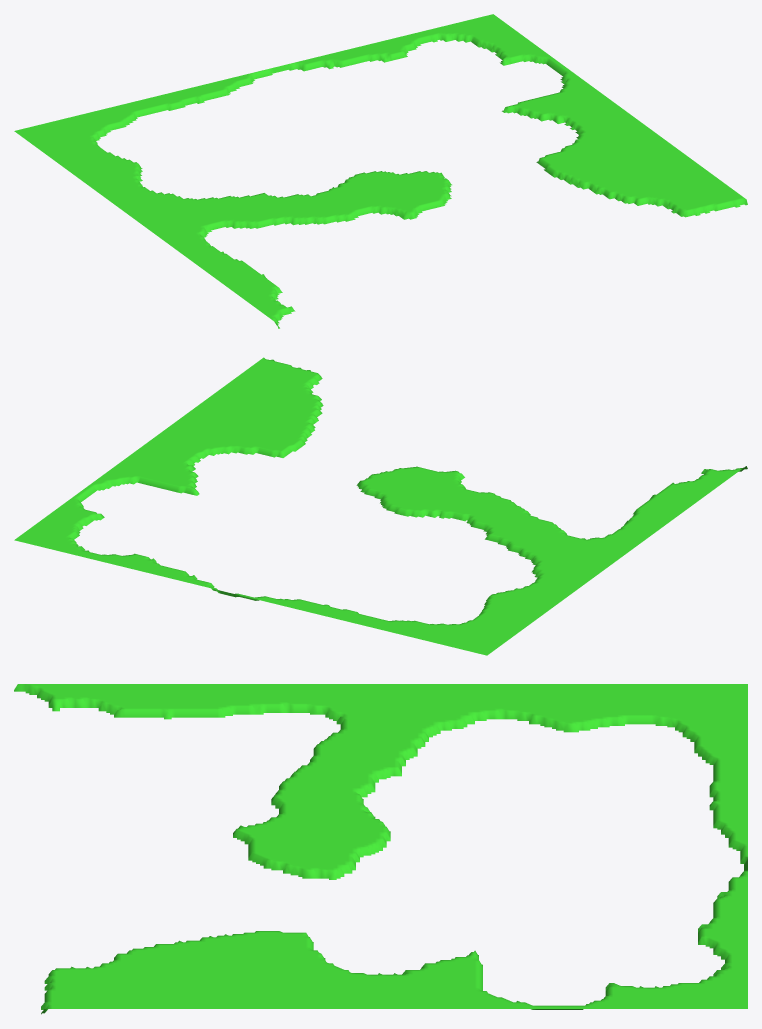
The model's file is LakeDanShore.glb.
3 views of the same model, one above another, from view 1: azimuth 30°, elevation 25°; view 2: azimuth 150°, elevation 25°; view 3: azimuth 270°, elevation 25° (orthographic). The views are drawn at different scales.
Parts seen in each view (by area): view 1: level1; view 2: level1; view 3: level1.
Part boxes in pixels (x1,y1,x2,y2): level1: [14, 14, 747, 328]; level1: [14, 357, 747, 655]; level1: [14, 684, 747, 1014].
Size of the model in its own units: 114 by 1 by 109.
